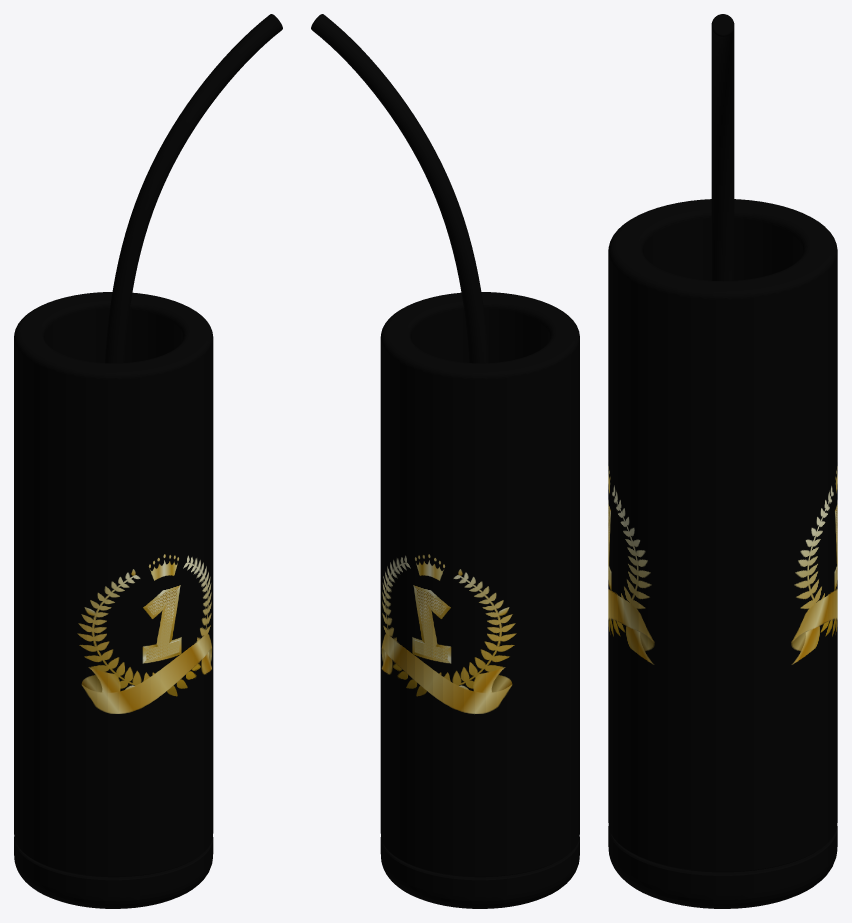
3 views of the same model, side by side, from view 1: azimuth 30°, elevation 25°; view 2: azimuth 150°, elevation 25°; view 3: azimuth 270°, elevation 25° (orthographic). The views are drawn at different scales.
Parts seen in each view (by area): view 1: DB2g; view 2: DB2g; view 3: DB2g.
Part boxes in pixels (<box>): DB2g: <box>14,14,282,908</box>; DB2g: <box>311,14,579,908</box>; DB2g: <box>608,14,837,908</box>.
Size of the model in its own units: 0.0147 by 0.0454 by 0.01.
Materials: 1 (1 with a texture image).
